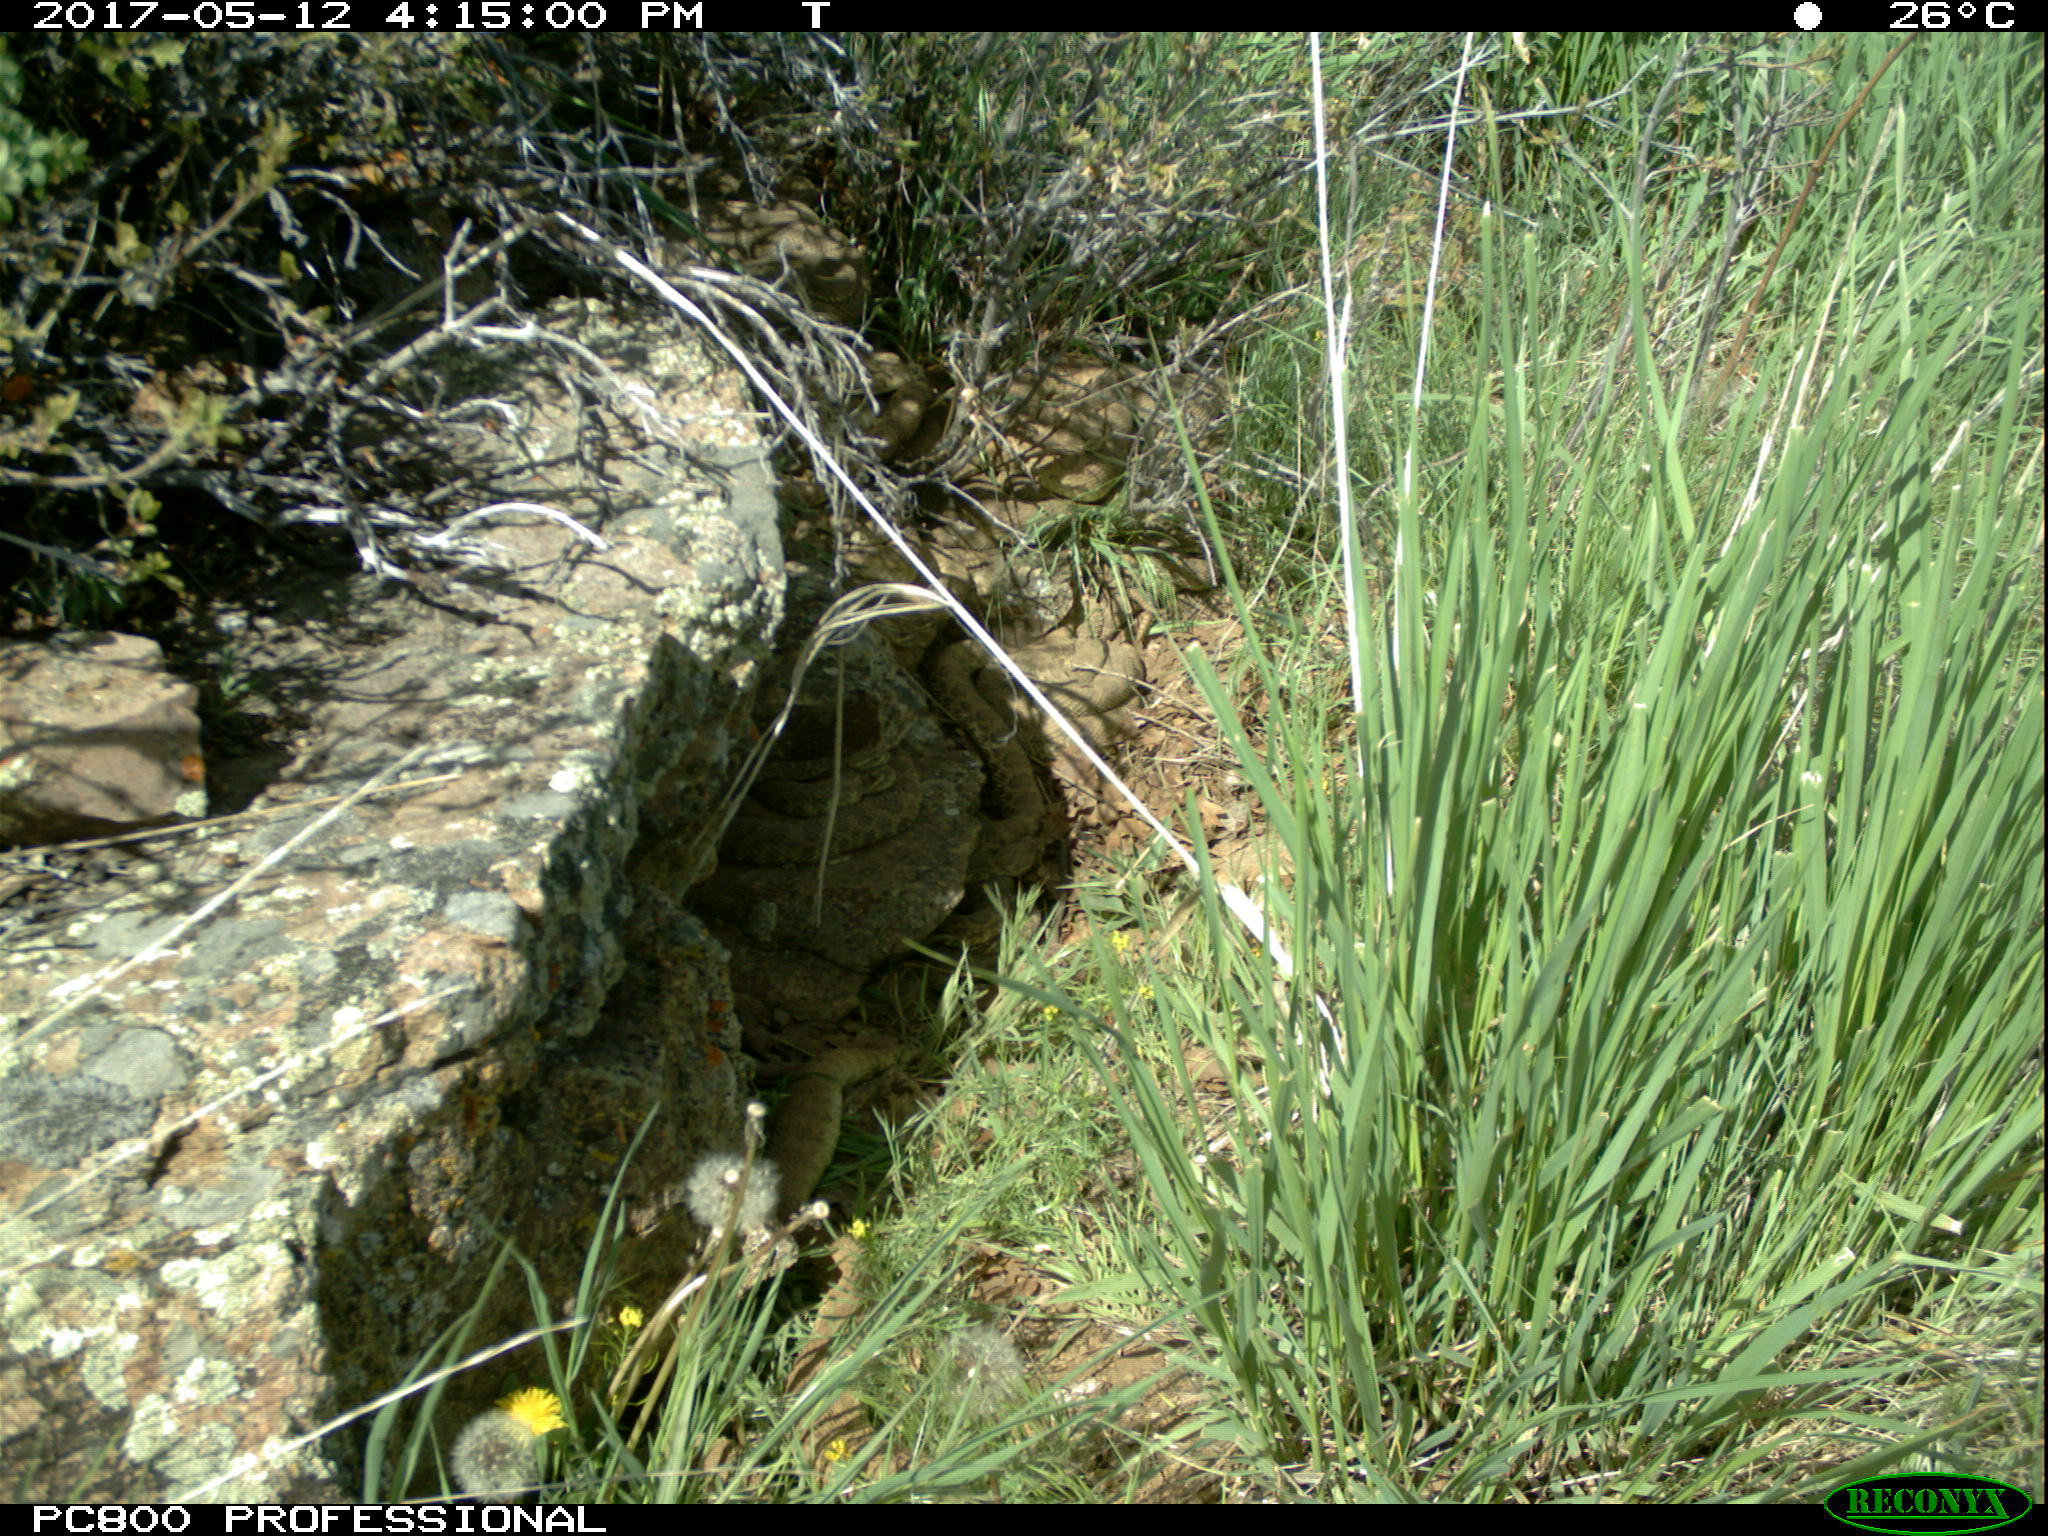snake: (935, 636, 1143, 891), (764, 1042, 930, 1231), (726, 768, 921, 865), (735, 205, 880, 331), (1014, 387, 1130, 507), (843, 353, 935, 466)
